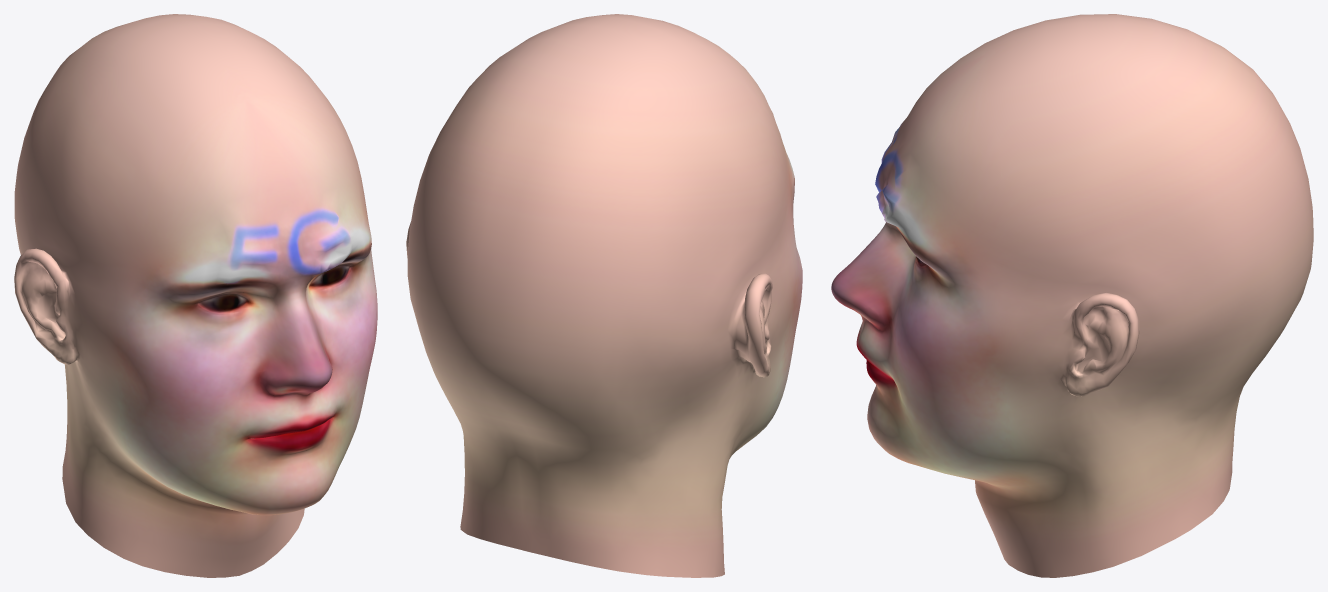
Rendered from random_anyrace_anysex_17.obj.
3 views of the same model, side by side, from view 1: azimuth 30°, elevation 25°; view 2: azimuth 150°, elevation 25°; view 3: azimuth 270°, elevation 25° (orthographic). The views are drawn at different scales.
Parts seen in each view (by area): view 1: HeadHires; view 2: HeadHires; view 3: HeadHires.
Boxes of the visible parts, x1=… form: HeadHires: x1=14, y1=14, x2=377, y2=577; HeadHires: x1=406, y1=14, x2=802, y2=577; HeadHires: x1=831, y1=14, x2=1313, y2=577.
Bounding box in the file's own units: 190 × 282 × 236.
Materials: 3 (3 with a texture image).
